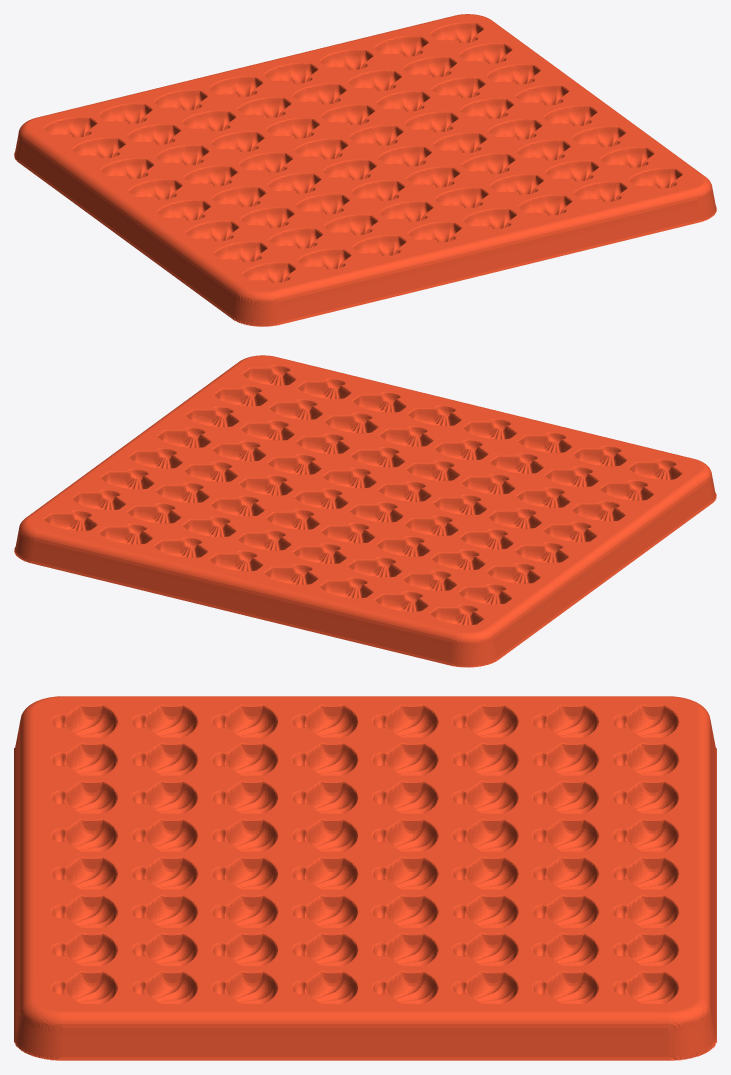
File: mold.glb
3 views of the same model, one above another, from view 1: azimuth 30°, elevation 25°; view 2: azimuth 150°, elevation 25°; view 3: azimuth 270°, elevation 25° (orthographic). The views are drawn at different scales.
Visible parts, largest first — view 1: geometry_0; view 2: geometry_0; view 3: geometry_0.
Part boxes in pixels (x1=…): geometry_0: x1=14, y1=14, x2=716, y2=326; geometry_0: x1=14, y1=355, x2=716, y2=667; geometry_0: x1=14, y1=696, x2=716, y2=1060.
Bounding box in the file's own units: 0.1428 × 0.0083 × 0.1283.
